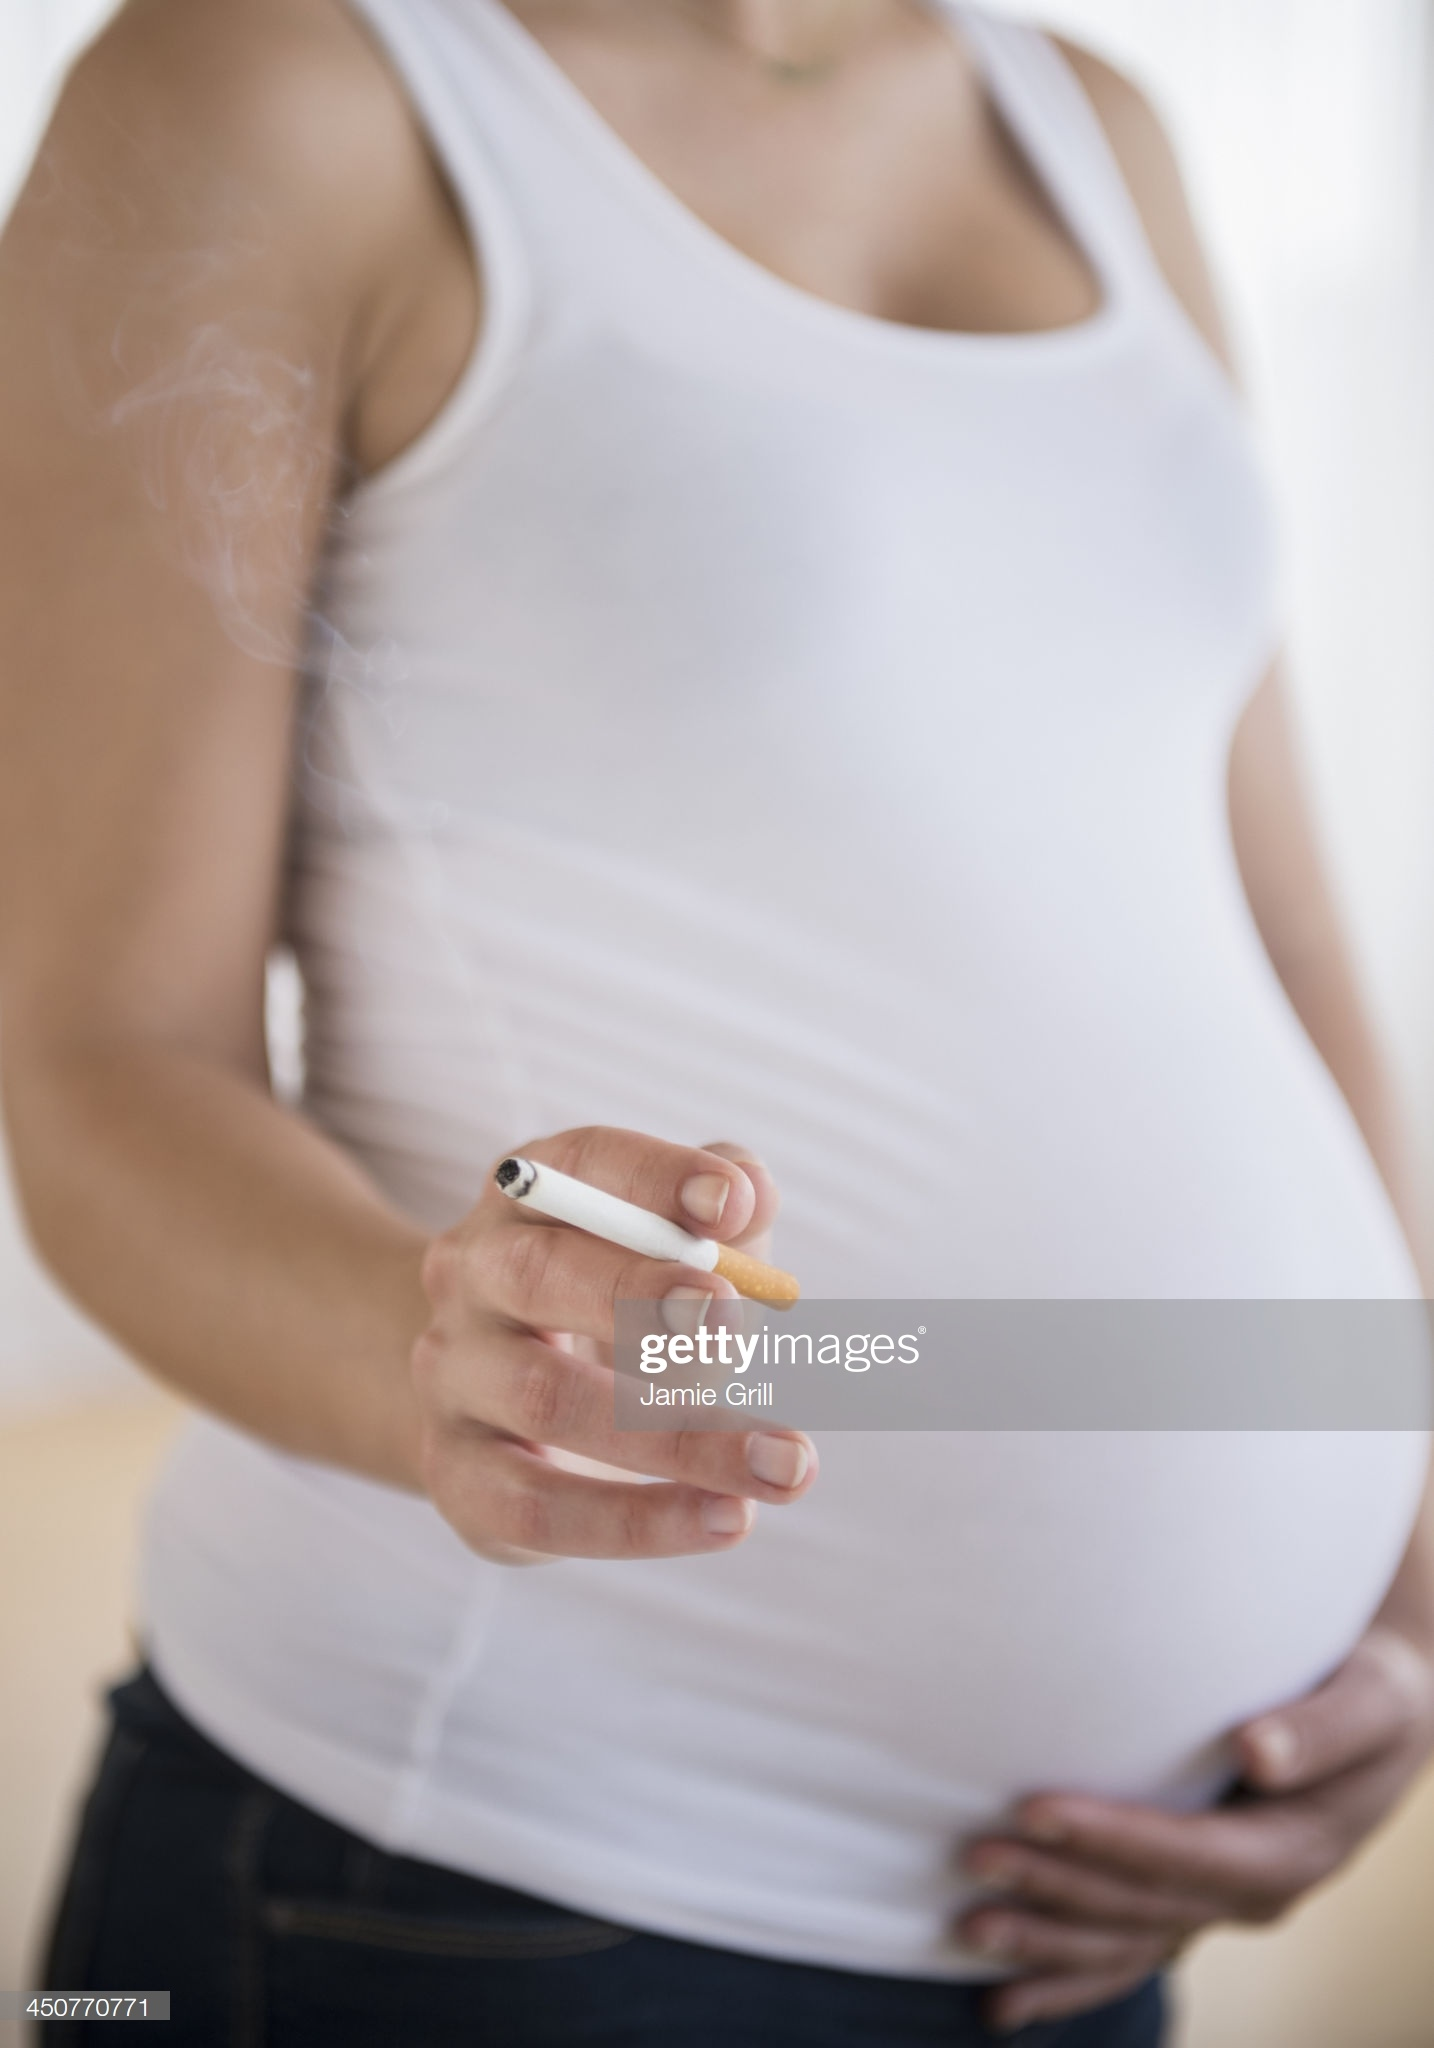sigaretta: (497, 1148, 803, 1317)
